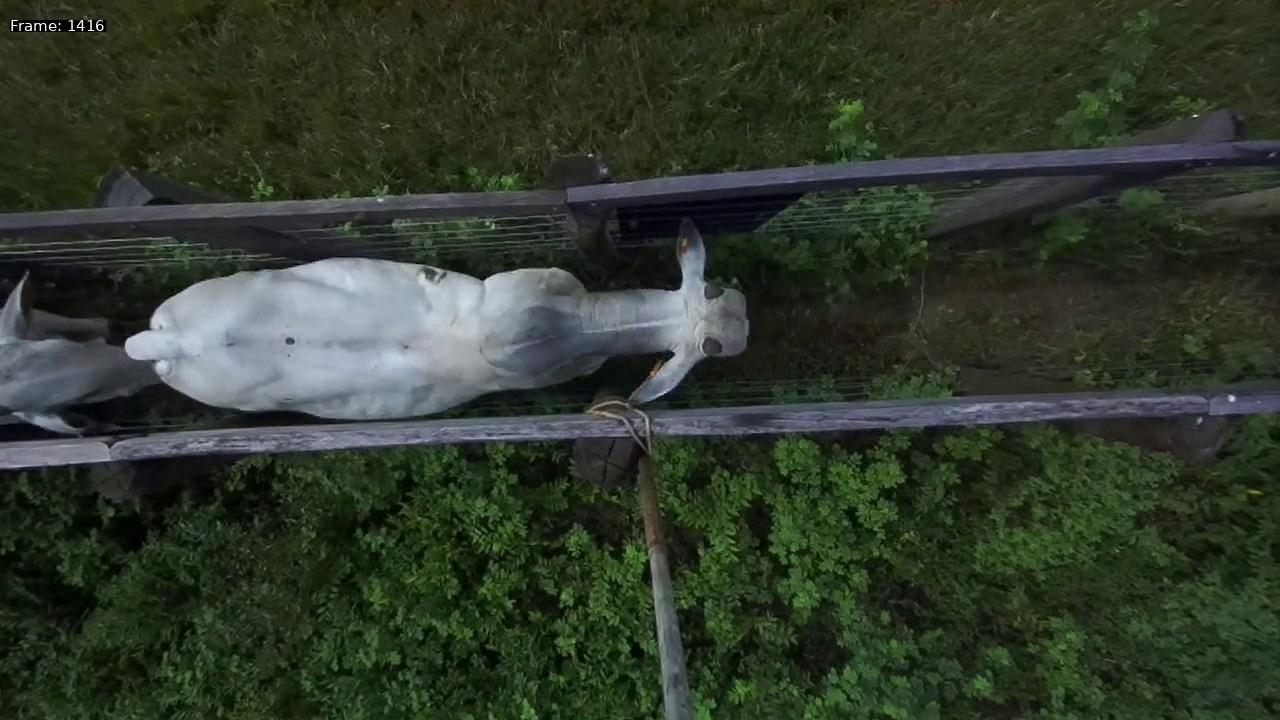cattle: (110, 205, 769, 426)
